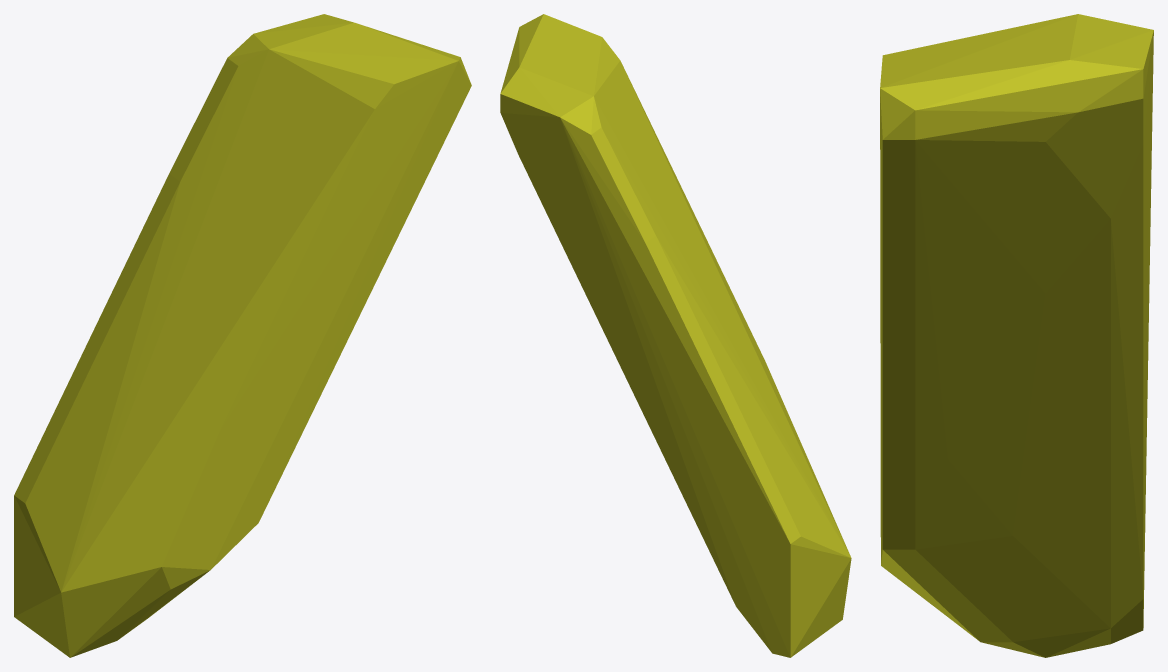
File: mouth_cup058.obj
3 renders of one model, left to right at view 1: azimuth 30°, elevation 25°; view 2: azimuth 150°, elevation 25°; view 3: azimuth 270°, elevation 25°, orthographic. The views are drawn at different scales.
Visible parts, largest first — view 1: mouth_cup058; view 2: mouth_cup058; view 3: mouth_cup058.
Part boxes in pixels (x1,y1,x2,y2): mouth_cup058: (14, 14, 471, 657); mouth_cup058: (500, 14, 851, 657); mouth_cup058: (880, 14, 1153, 657).
Size of the model in its own units: 0.1166 by 0.1583 by 0.0503.
